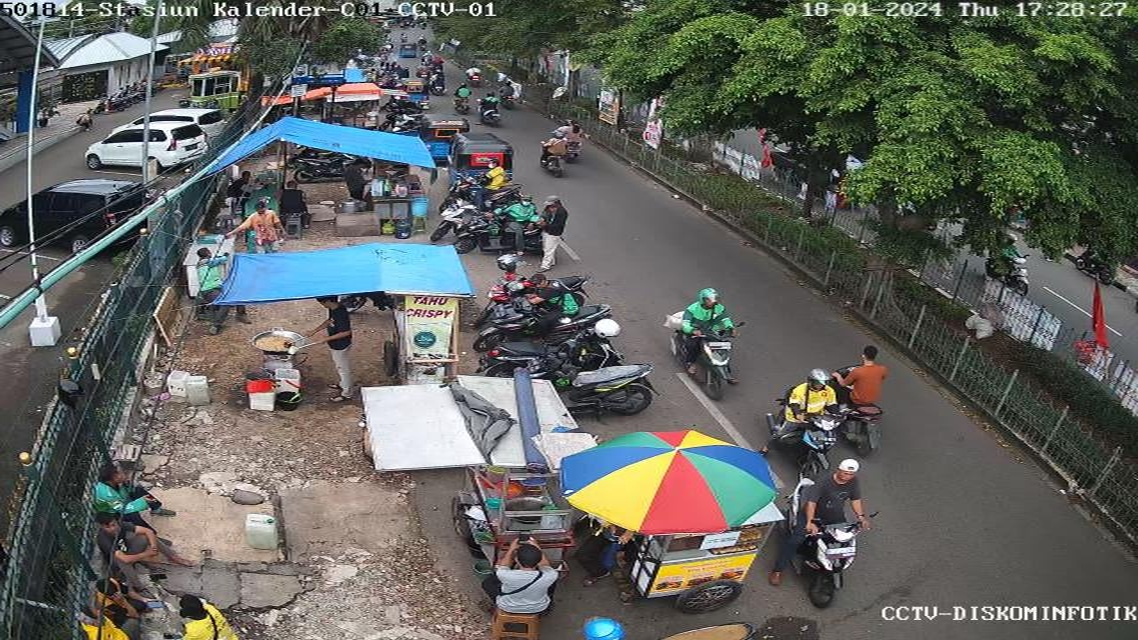Gerobak: (340, 368, 585, 579), (629, 506, 786, 613), (384, 296, 464, 383), (363, 158, 429, 230)
